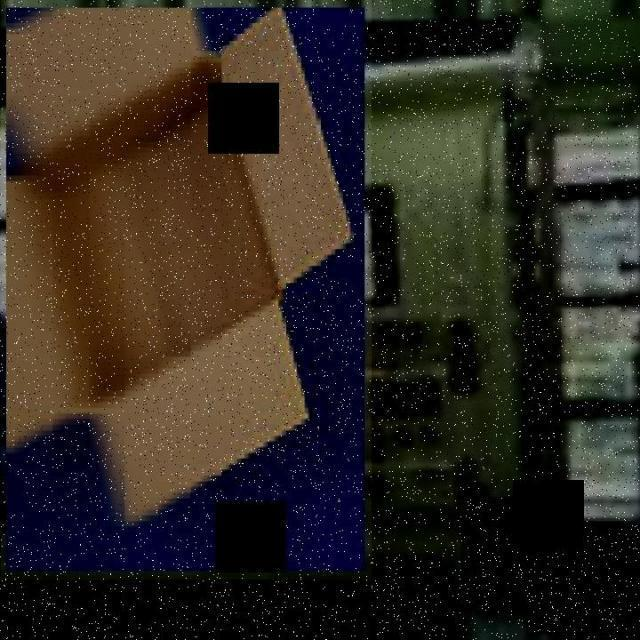box: (1, 0, 372, 580)
